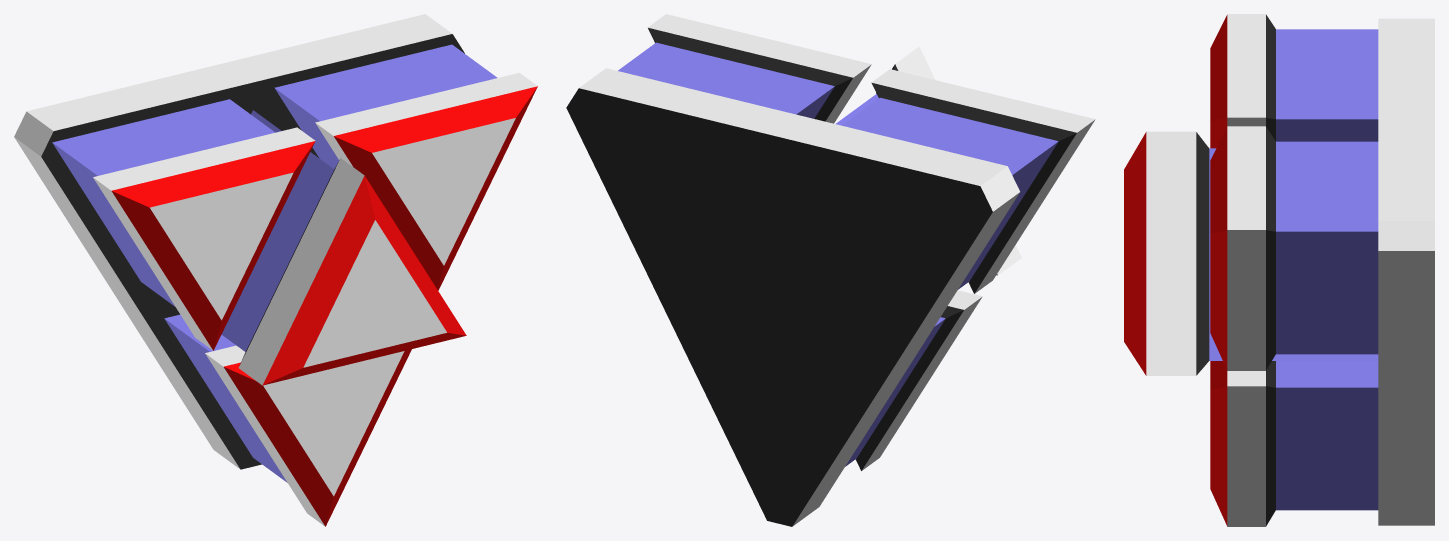
Rendered from crystalStorage.obj.
3 views of the same model, side by side, from view 1: azimuth 30°, elevation 25°; view 2: azimuth 150°, elevation 25°; view 3: azimuth 270°, elevation 25° (orthographic). The views are drawn at different scales.
Parts seen in each view (by area): view 1: Cylinder.004_Cylinder, Cylinder, Cylinder.003_Cylinder, Cylinder.002_Cylinder.001, Cylinder.001_Cylinder; view 2: Cylinder.002_Cylinder.001, Cylinder.004_Cylinder, Cylinder.003_Cylinder, Cylinder.001_Cylinder, Cylinder; view 3: Cylinder.003_Cylinder, Cylinder.002_Cylinder.001, Cylinder.001_Cylinder, Cylinder, Cylinder.004_Cylinder.
Part boxes in pixels (x1=…): Cylinder.004_Cylinder: x1=52, y1=99, x2=315, y2=350; Cylinder: x1=221, y1=110, x2=466, y2=385; Cylinder.003_Cylinder: x1=274, y1=44, x2=537, y2=290; Cylinder.002_Cylinder.001: x1=14, y1=14, x2=464, y2=469; Cylinder.001_Cylinder: x1=164, y1=314, x2=411, y2=526; Cylinder.002_Cylinder.001: x1=566, y1=68, x2=1019, y2=526; Cylinder.004_Cylinder: x1=842, y1=69, x2=1095, y2=293; Cylinder.003_Cylinder: x1=618, y1=14, x2=871, y2=123; Cylinder.001_Cylinder: x1=845, y1=290, x2=982, y2=470; Cylinder: x1=836, y1=46, x2=1021, y2=275; Cylinder.003_Cylinder: x1=1210, y1=126, x2=1378, y2=370; Cylinder.002_Cylinder.001: x1=1378, y1=18, x2=1434, y2=525; Cylinder.001_Cylinder: x1=1210, y1=361, x2=1378, y2=526; Cylinder: x1=1124, y1=131, x2=1378, y2=375; Cylinder.004_Cylinder: x1=1210, y1=14, x2=1378, y2=148.
Bounding box in the file's own units: 1.76 × 1.54 × 1.07.
